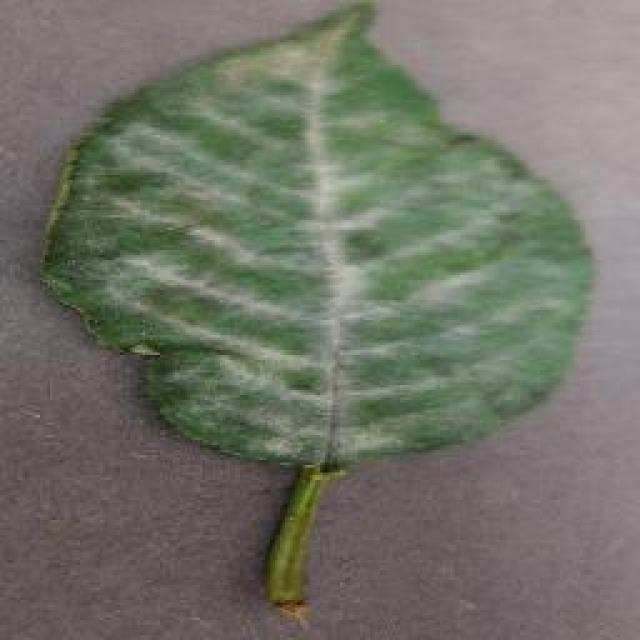Cherry___Powdery_mildew: (22, 0, 602, 628)
